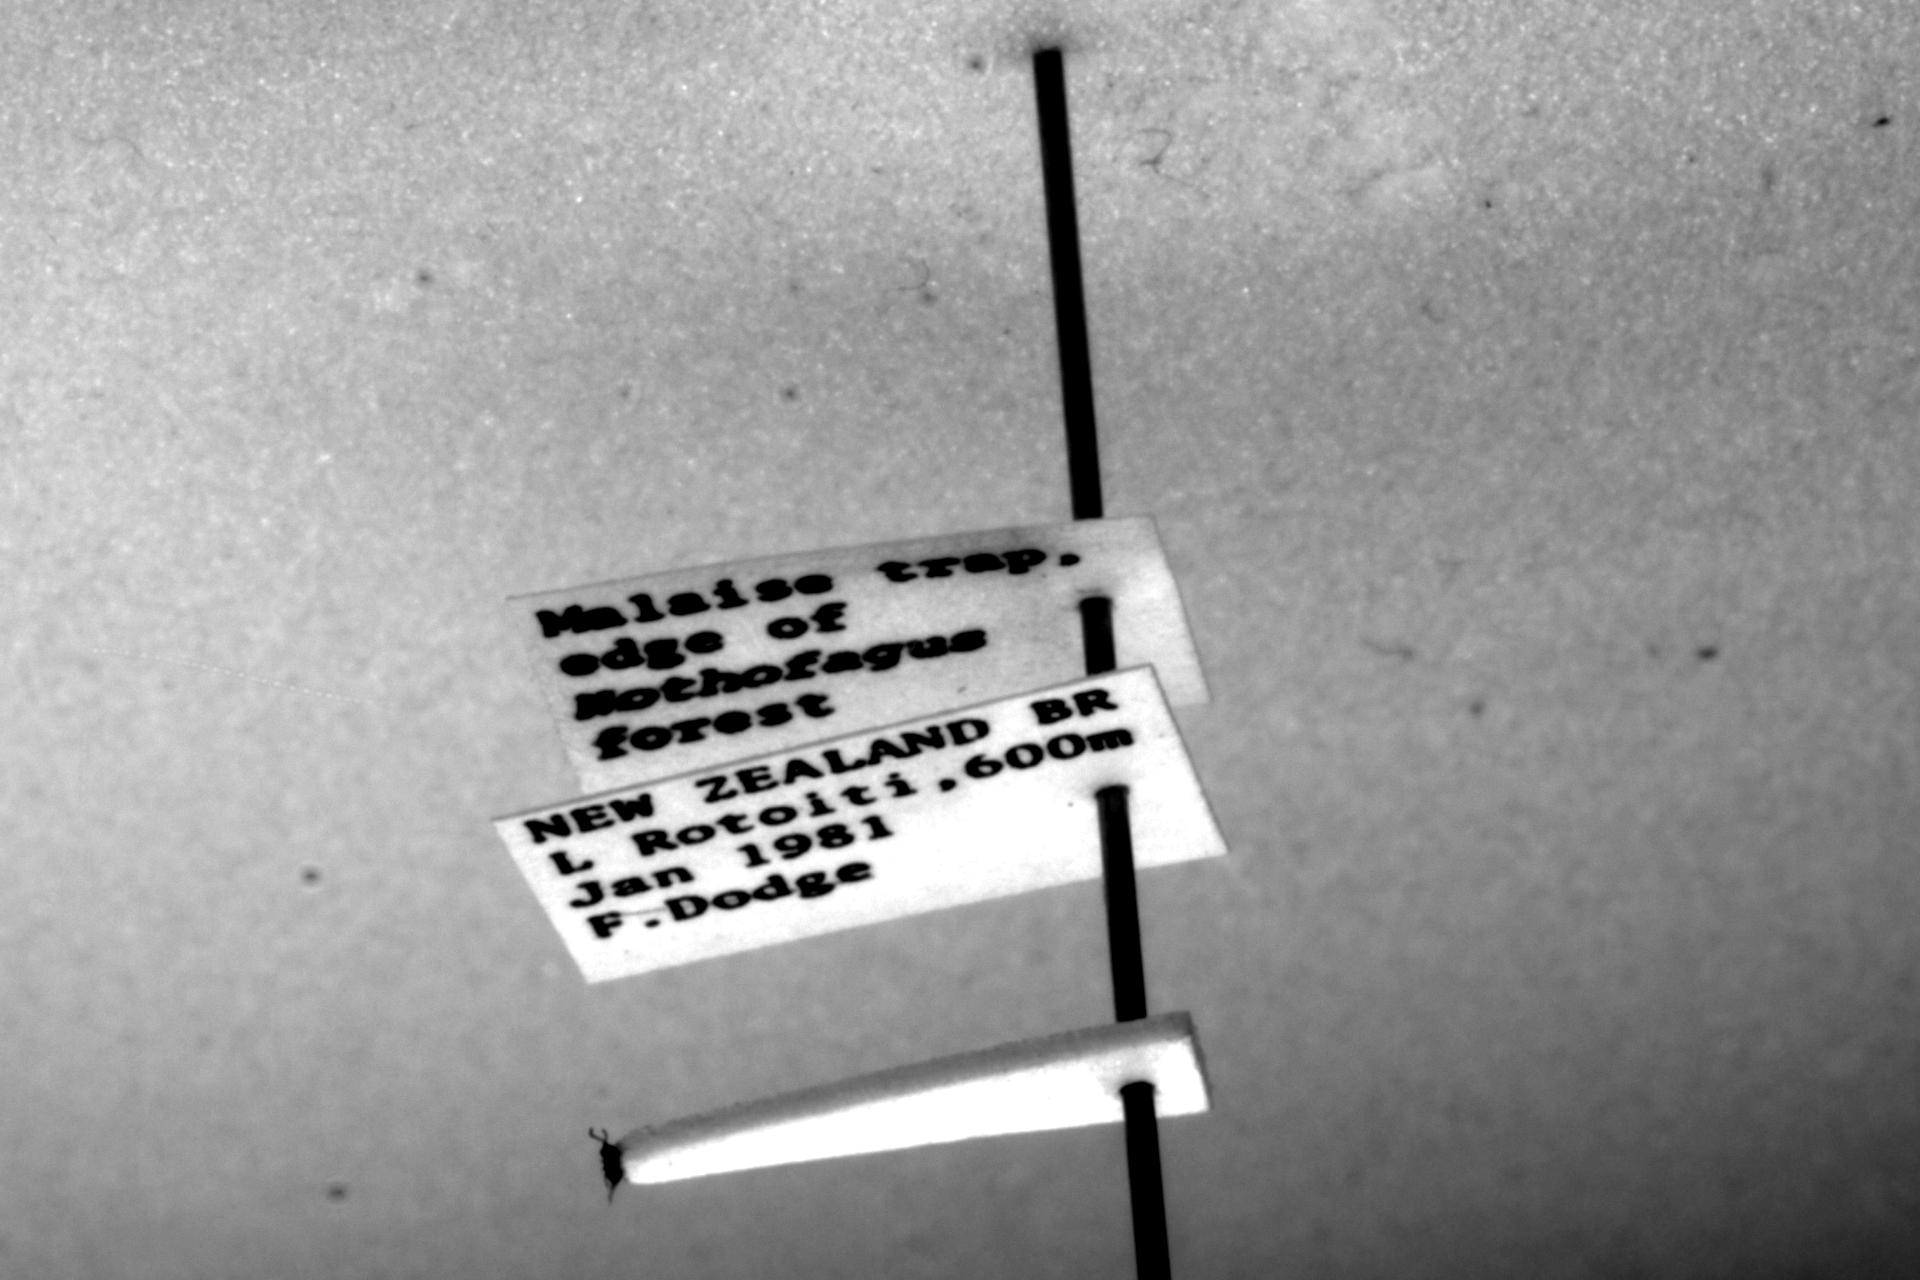typed_label: (494, 667, 1226, 983), (510, 517, 1207, 794)
